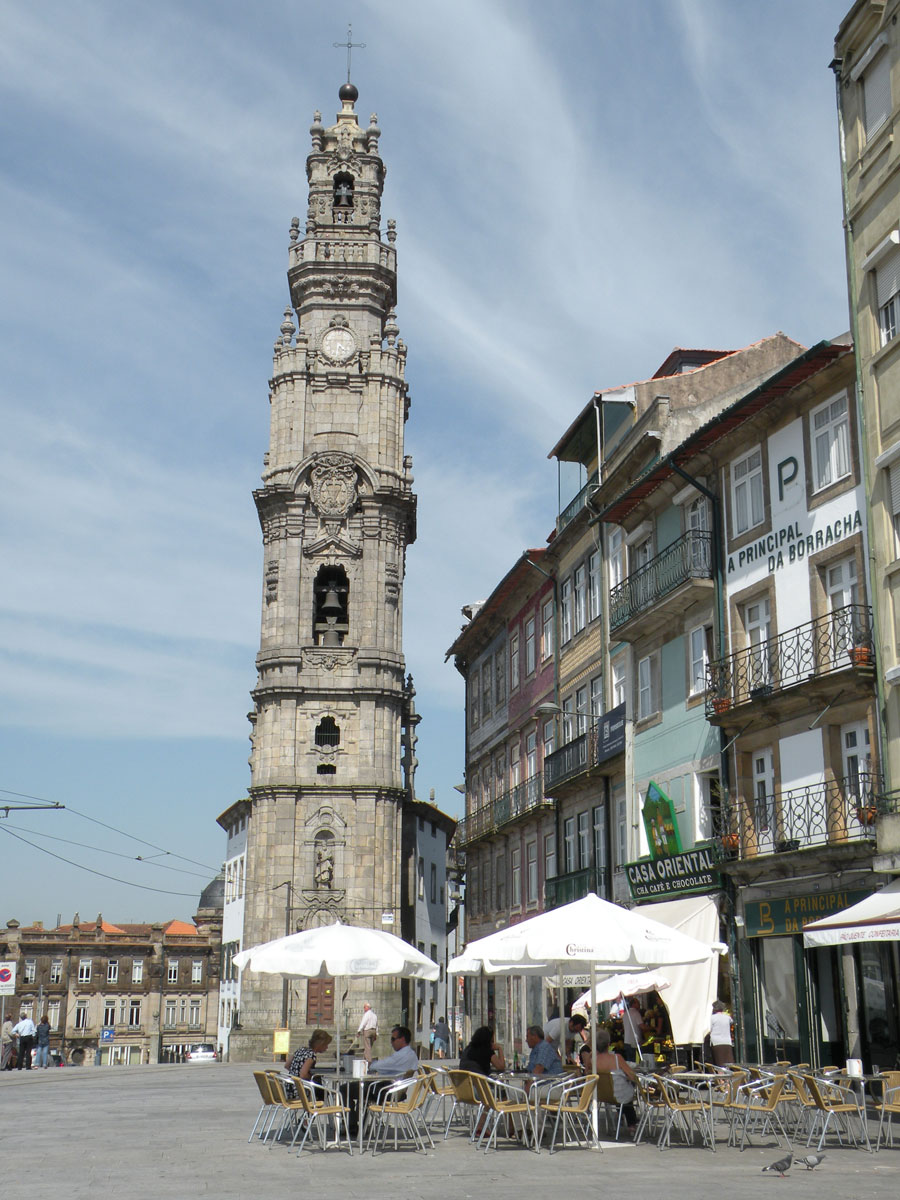clerigos: (252, 22, 421, 1037)
